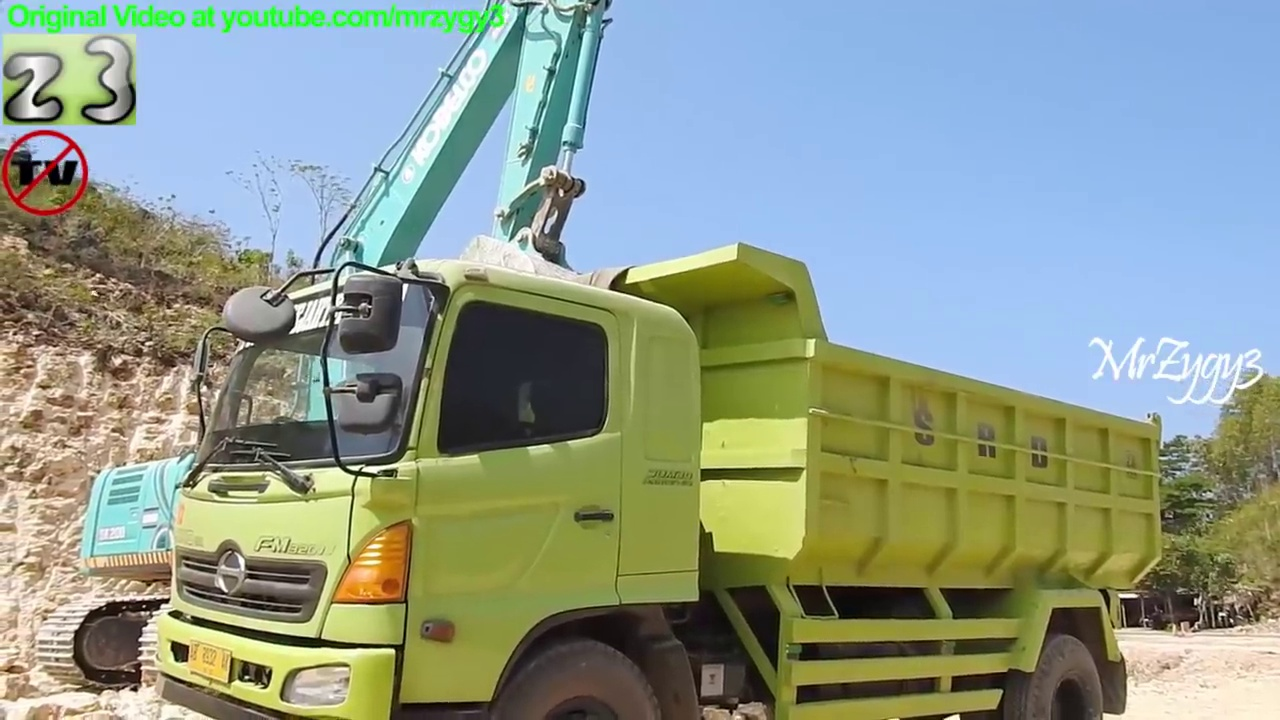excavator: (30, 2, 622, 700)
truck: (148, 231, 1169, 720)
